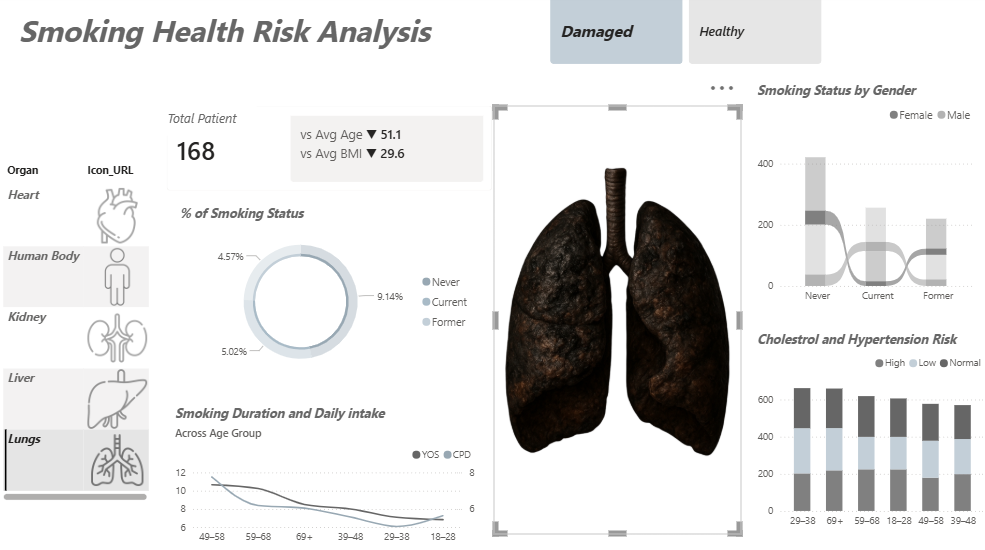

This screenshot's page, from the dashboard's own definition file:
{"tool":"powerbi","page":{"name":"Page 1","canvas":[1280,720],"ordinal":0},"visuals":[{"type":"cardVisual","fields":{"Data":["CountNonNull(health_dataset.Patient_ID)"]},"box":[211.7,124.7,444.1,141.7],"z":0},{"type":"textbox","box":[224.9,141.7,117.2,37.8],"z":1000},{"type":"advancedSlicerVisual","fields":{"Values":["condition.Organ_Condition"]},"box":[706.8,0,353.4,94.5],"z":2000},{"type":"image","box":[640.6,141.7,311.8,540.5],"z":3000},{"type":"tableEx","fields":{"Values":["Organ.Organ","Organ.Icon_URL"]},"box":[17,207.9,194.6,436.5],"z":4000},{"type":"donutChart","title":"% of Smoking Status","fields":{"Category":["health_dataset.Smoking_Status"],"Y":["CountNonNull(health_dataset.Smoking_Status)"]},"box":[240,266.5,381.7,223],"z":5000},{"type":"lineChart","title":"Smoking Duration and Daily intake","fields":{"Category":["health_dataset.Age Group"],"Y":["Avg(health_dataset.Years_of_Smoking)"],"Y2":["Avg(health_dataset.Cigarettes_Per_Day)"]},"box":[234.3,517.8,387.4,185.2],"z":6000},{"type":"ribbonChart","title":"Smoking Status by Gender","fields":{"Category":["health_dataset.Smoking_Status"],"Y":["CountNonNull(health_dataset.Patient_ID)"],"Series":["health_dataset.Gender"]},"box":[967.6,111.5,283.5,287.2],"z":7000},{"type":"columnChart","title":"Cholestrol and Hypertension Risk","fields":{"Y":["Avg(health_dataset.Cholesterol_Level)"],"Category":["health_dataset.Age Group"],"Series":["health_dataset.BP_Risk"]},"box":[967.6,425.2,296.7,257],"z":8000},{"type":"textbox","box":[17,17,604.7,77.5],"z":8001}]}

Visuals, with their boxes in screenshot pixels (x1, y1, x2, y2), scaled from the page's 1280x720 canvas onto the 985x550 screenshot:
cardVisual - CountNonNull(health_dataset.Patient_ID): (x1=163, y1=95, x2=505, y2=203)
textbox: (x1=173, y1=108, x2=263, y2=137)
advancedSlicerVisual - condition.Organ_Condition: (x1=544, y1=0, x2=816, y2=72)
image: (x1=493, y1=108, x2=733, y2=521)
tableEx - Organ.Organ x Organ.Icon_URL: (x1=13, y1=159, x2=163, y2=492)
"% of Smoking Status" donutChart: (x1=185, y1=204, x2=478, y2=374)
"Smoking Duration and Daily intake" lineChart: (x1=180, y1=396, x2=478, y2=537)
"Smoking Status by Gender" ribbonChart: (x1=745, y1=85, x2=963, y2=305)
"Cholestrol and Hypertension Risk" columnChart: (x1=745, y1=325, x2=973, y2=521)
textbox: (x1=13, y1=13, x2=478, y2=72)
